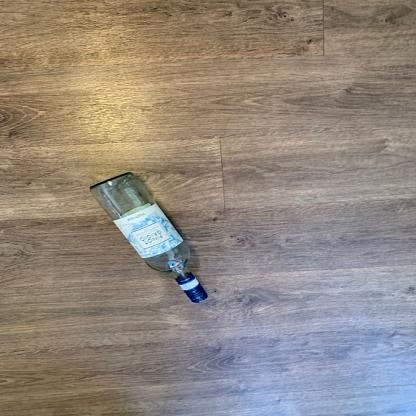trash: (85, 170, 210, 304)
